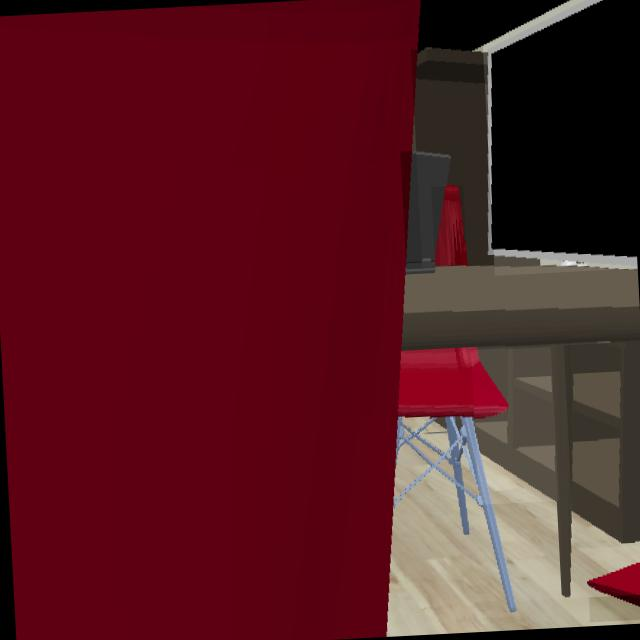bookshelf: (416, 47, 540, 267), (571, 343, 640, 546), (475, 347, 556, 501)
chair: (398, 349, 516, 615), (436, 186, 466, 268), (588, 564, 640, 611)
laptop: (407, 151, 452, 279)
monitor: (488, 0, 638, 268)
table: (403, 269, 640, 599)
